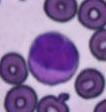M: (28, 30, 80, 86)
